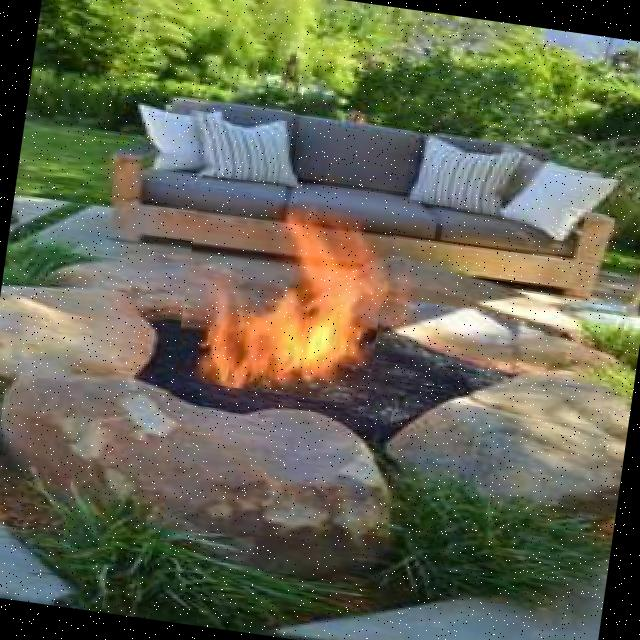fire: (174, 174, 396, 406)
